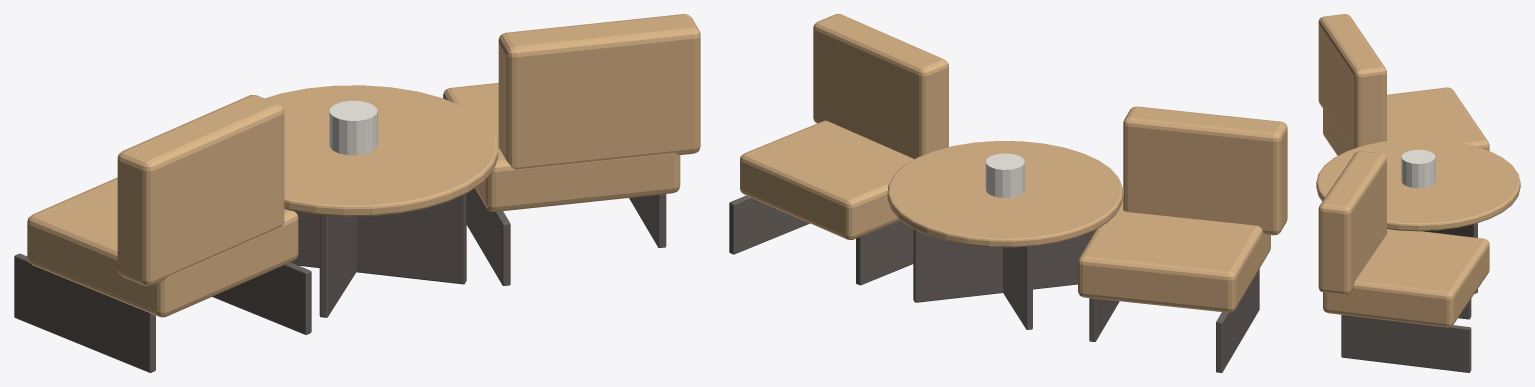
Rendered from office_storage___organization_asset_sheet_67.glb.
The picture shows the model from 3 angles, left to right: view 1: azimuth 30°, elevation 25°; view 2: azimuth 150°, elevation 25°; view 3: azimuth 270°, elevation 25°; orthographic projection. The views are drawn at different scales.
Parts seen in each view (by area): view 1: Cylinder; view 2: Cylinder; view 3: Cylinder.
Boxes of the visible parts, box(x1,y1,x2,y2) form: Cylinder: box(14, 14, 700, 372); Cylinder: box(729, 14, 1287, 372); Cylinder: box(1316, 14, 1520, 372).
Size of the model in its own units: 2.03 by 0.72 by 0.84.
